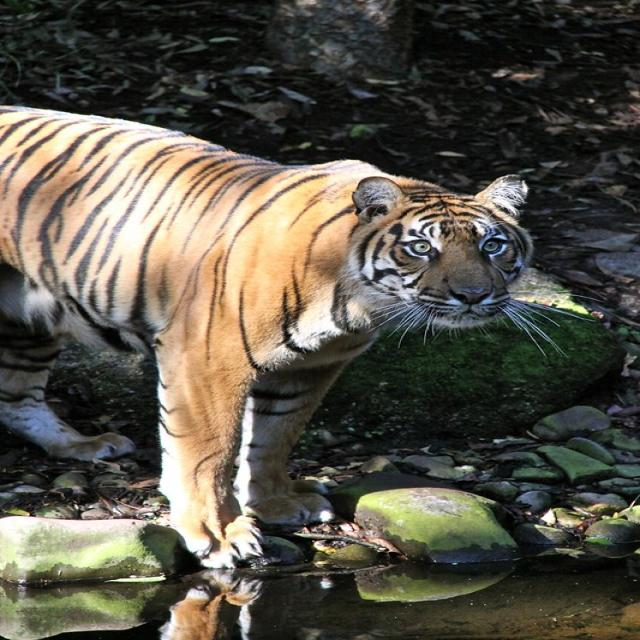Tiger: (0, 103, 540, 567)
